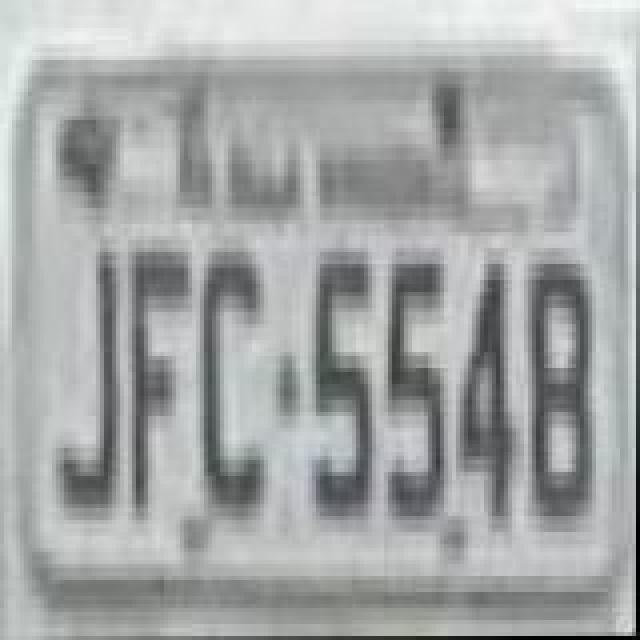4: (456, 256, 524, 524)
5: (308, 240, 376, 524), (388, 248, 456, 532)
8: (528, 254, 596, 522)
C: (200, 248, 268, 516)
F: (126, 250, 190, 518)
J: (54, 238, 118, 522)
